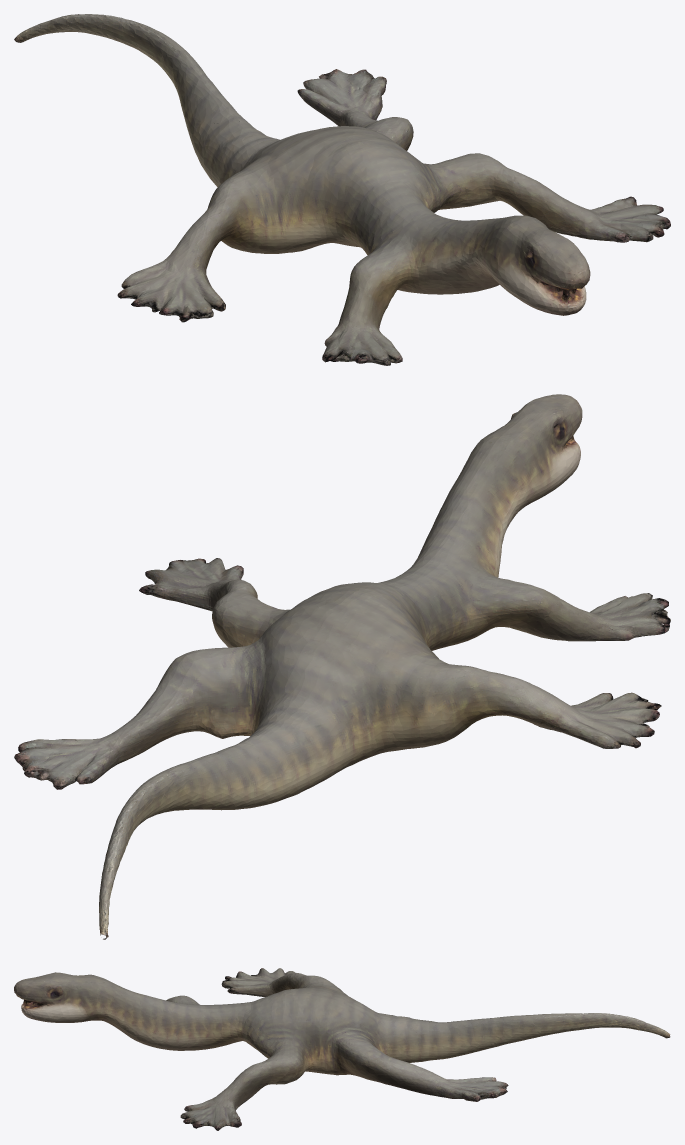
3 renders of one model, top to bottom at view 1: azimuth 30°, elevation 25°; view 2: azimuth 150°, elevation 25°; view 3: azimuth 270°, elevation 25°, orthographic. The views are drawn at different scales.
Visible parts, largest first — view 1: world; view 2: world; view 3: world.
Boxes of the visible parts, box(x1,y1,x2,y2) form: world: box(14, 14, 670, 365); world: box(14, 394, 670, 939); world: box(14, 968, 670, 1130).
Size of the model in its own units: 2.43 by 0.6678 by 4.2.
1 material, 1 textured.
